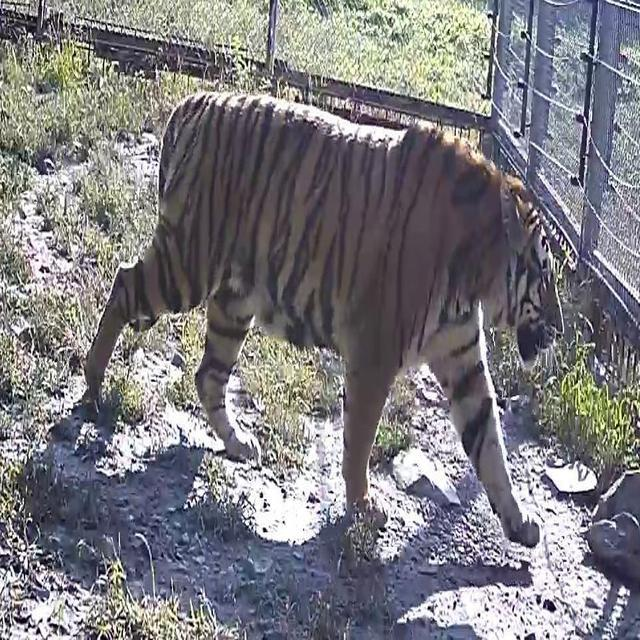tiger: (77, 89, 564, 547)
